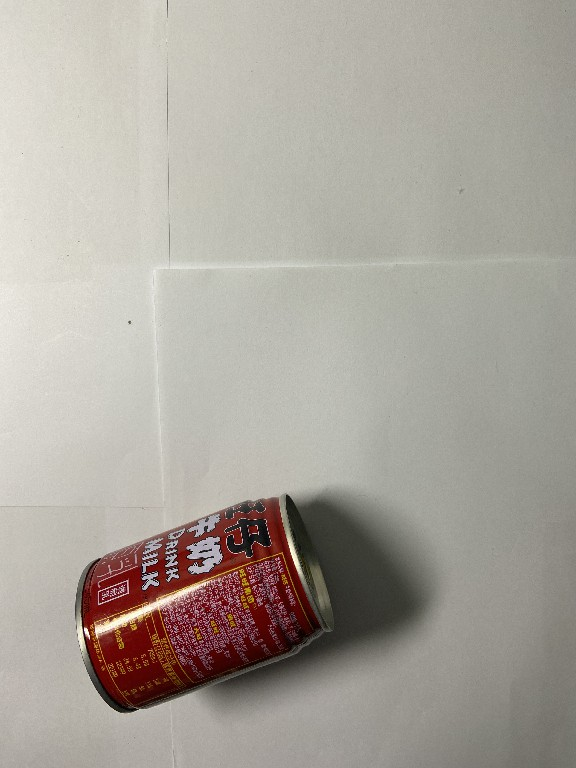can: (69, 489, 342, 720)
